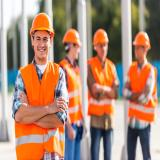Helmet: (30, 12, 56, 39), (132, 31, 152, 50), (63, 28, 82, 46), (93, 29, 109, 45)
Vest: (15, 62, 66, 160), (127, 60, 158, 123), (86, 56, 115, 116), (59, 58, 85, 122)
